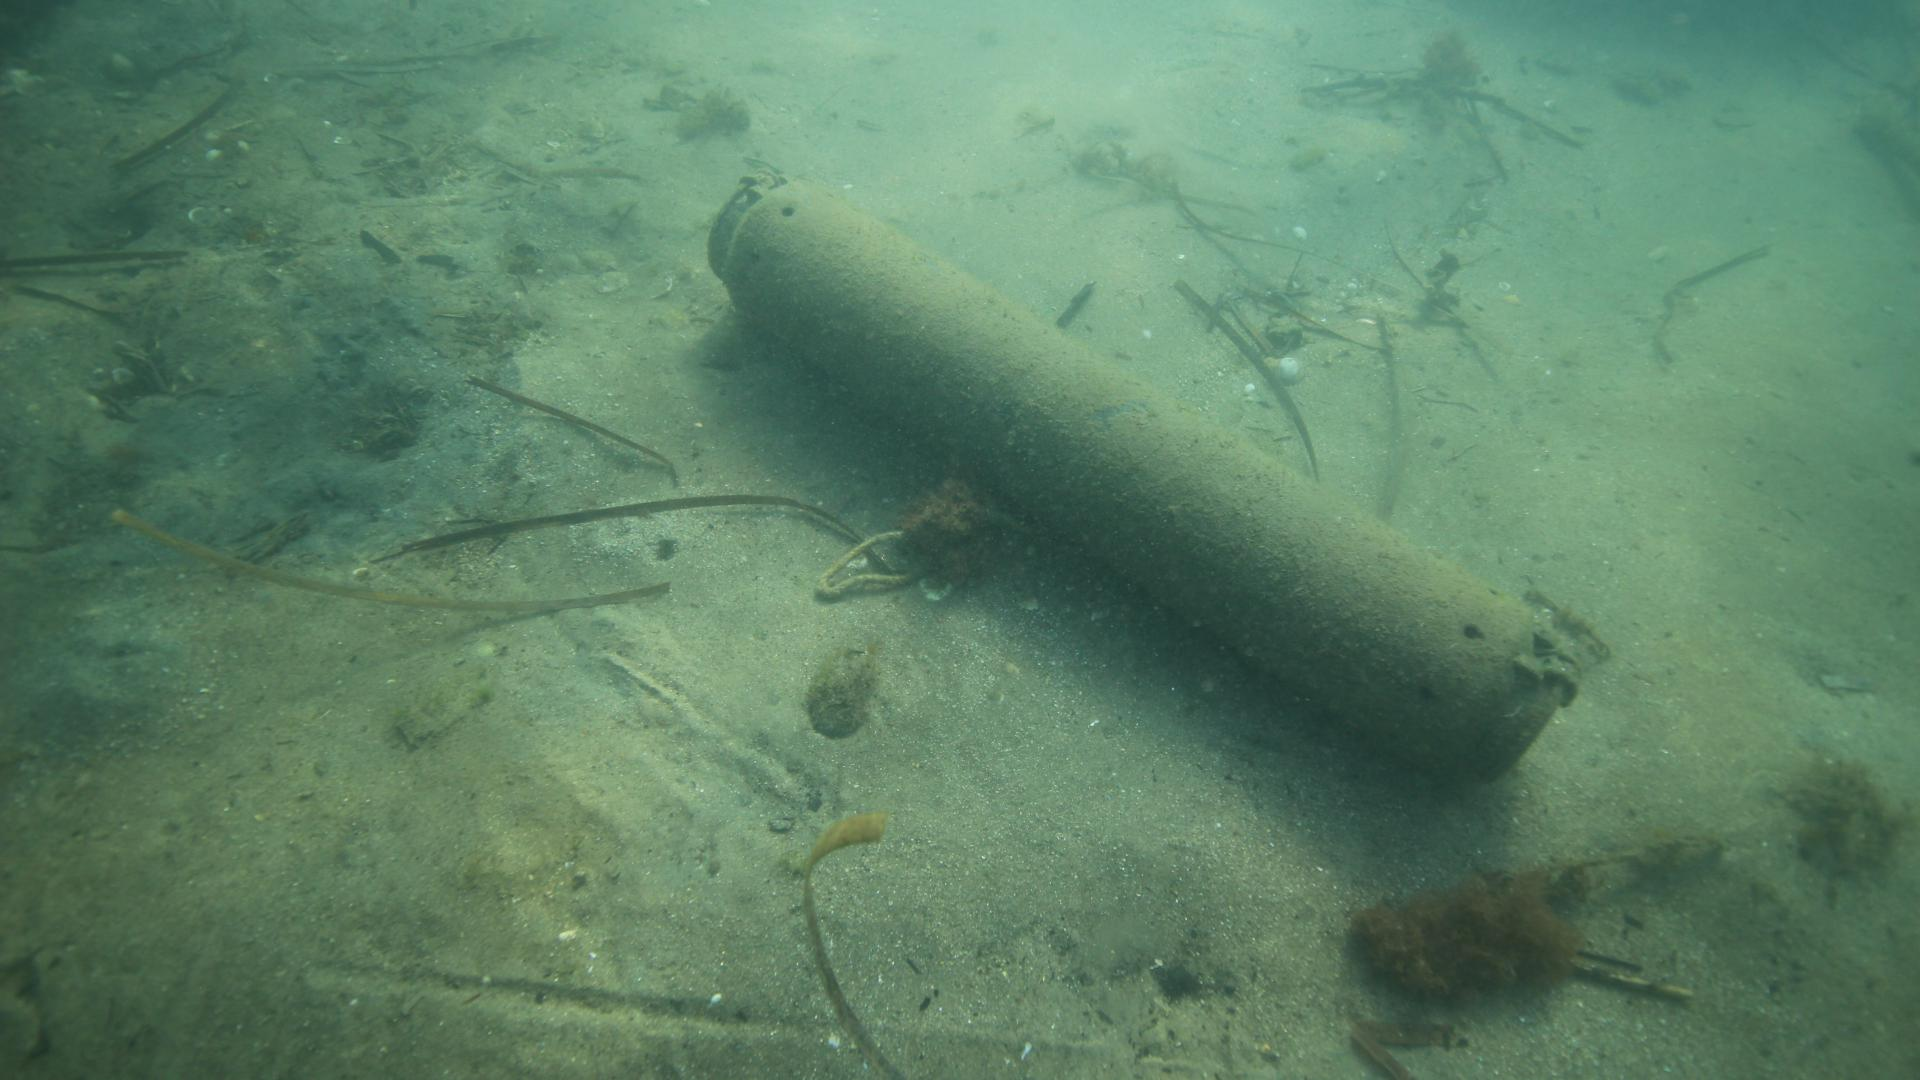eel fish trap: (702, 171, 1582, 787)
